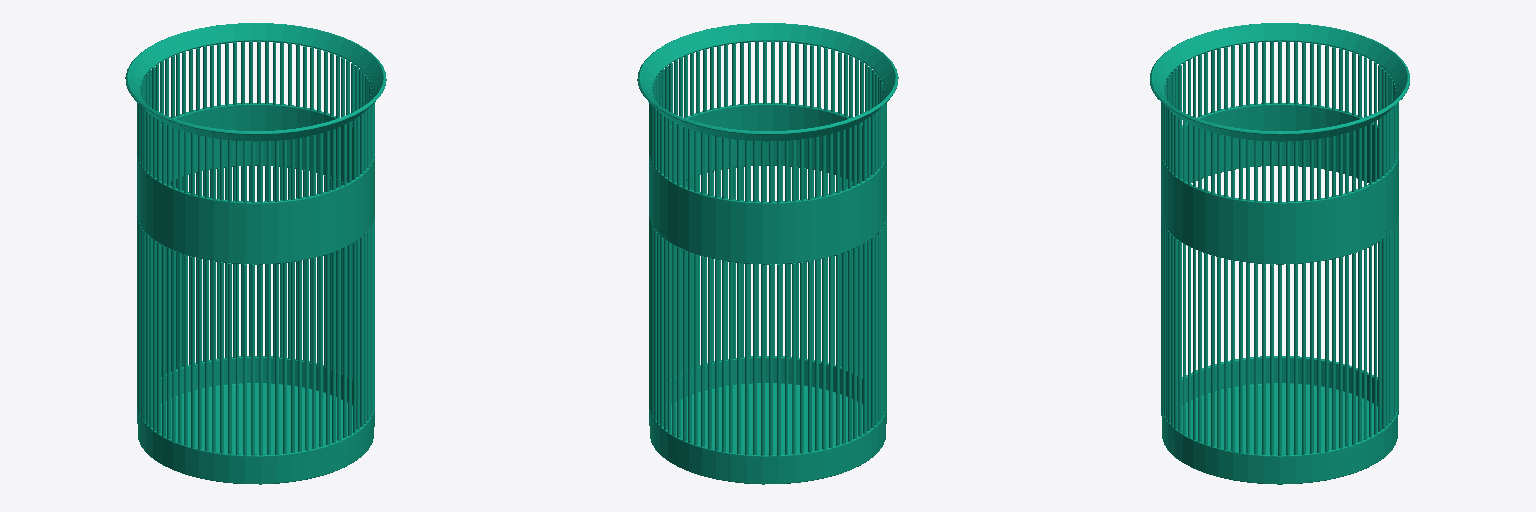
The model's file is trash_can.obj.
The picture shows the model from 3 angles: view 1: azimuth 30°, elevation 25°; view 2: azimuth 150°, elevation 25°; view 3: azimuth 270°, elevation 25°; orthographic projection.
Parts seen in each view (by area): view 1: bin_2; view 2: bin_2; view 3: bin_2.
Boxes of the visible parts, box(x1,y1,x2,y2) form: bin_2: box(125, 23, 386, 484); bin_2: box(637, 23, 898, 484); bin_2: box(1150, 23, 1409, 484).
Bounding box in the file's own units: 46.69 × 70.55 × 46.58.